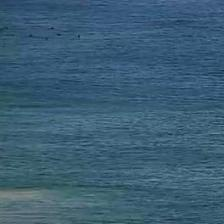surfer: (55, 33, 62, 37), (76, 34, 80, 39), (49, 26, 54, 30), (44, 37, 48, 42), (28, 34, 33, 37)
